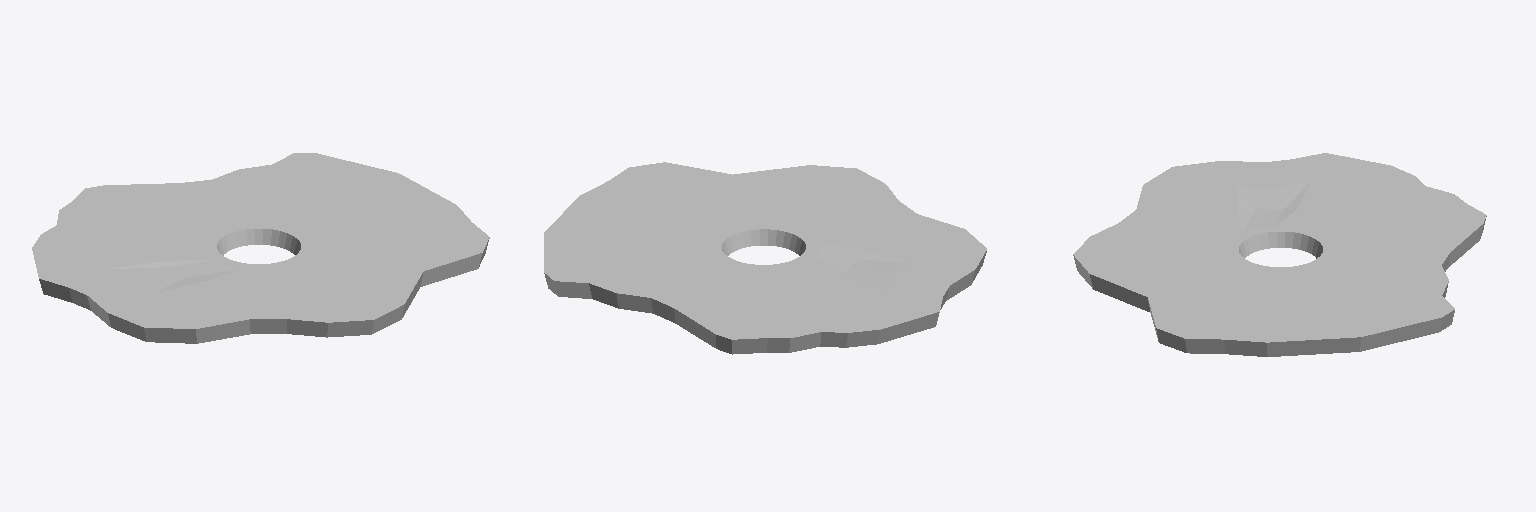
Rendered from EscenarioEspacio_test.obj.
The picture shows the model from 3 angles: view 1: azimuth 30°, elevation 25°; view 2: azimuth 150°, elevation 25°; view 3: azimuth 270°, elevation 25°; orthographic projection.
Parts seen in each view (by area): view 1: escenario2zbrushout; view 2: escenario2zbrushout; view 3: escenario2zbrushout.
Part boxes in pixels (x1,y1,x2,y2): escenario2zbrushout: (32,153,489,343); escenario2zbrushout: (544,162,986,354); escenario2zbrushout: (1073,153,1486,356).
Size of the model in its own units: 236 by 9.69 by 217.